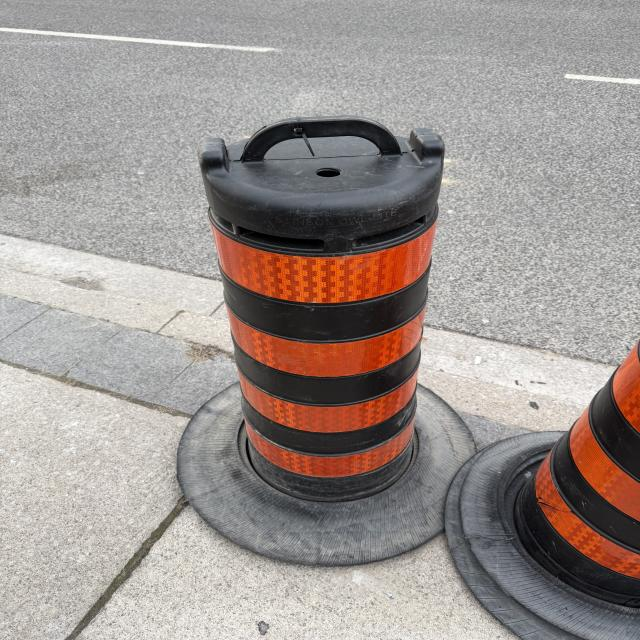Teraffic Barrel: (178, 118, 474, 564), (446, 343, 640, 640)
